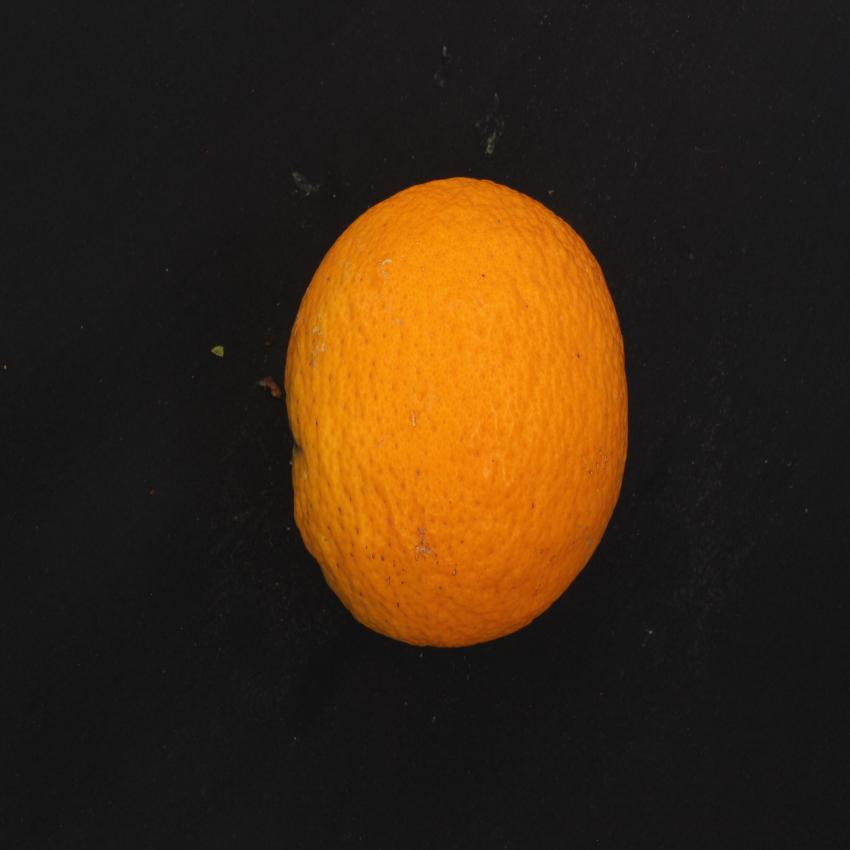Buen estado: (277, 167, 640, 663)
